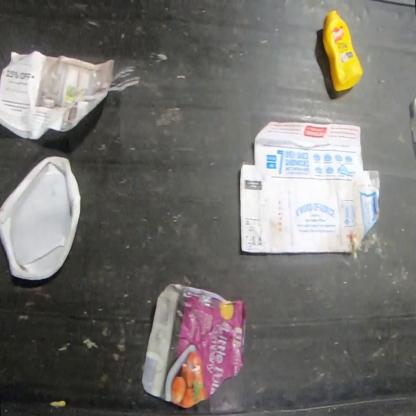cardboard: (239, 120, 381, 252)
rigid_plastic: (0, 155, 81, 281), (322, 9, 363, 92)
soft_plastic: (142, 281, 247, 408)
